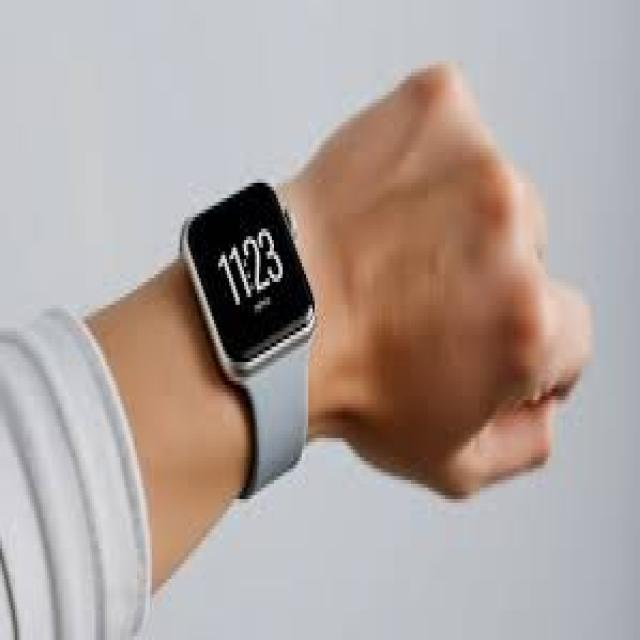objects: (178, 137, 322, 502)
